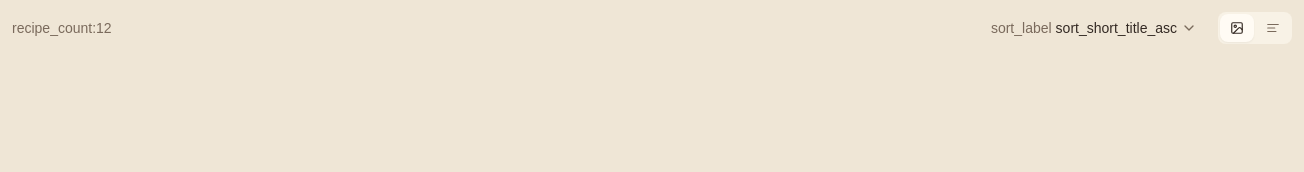
ResultsBar › leaves out the recently-used sorts when showRecentSort is false
Click the text "sort_short_title_asc" at (1116, 28), box left=1056, top=18, right=1177, bottom=38
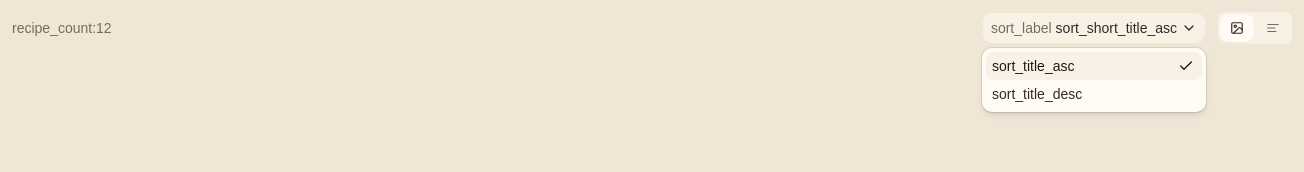
Expected: the menu item "sort_title_desc" is shown, left=992, top=86, right=1082, bottom=102
